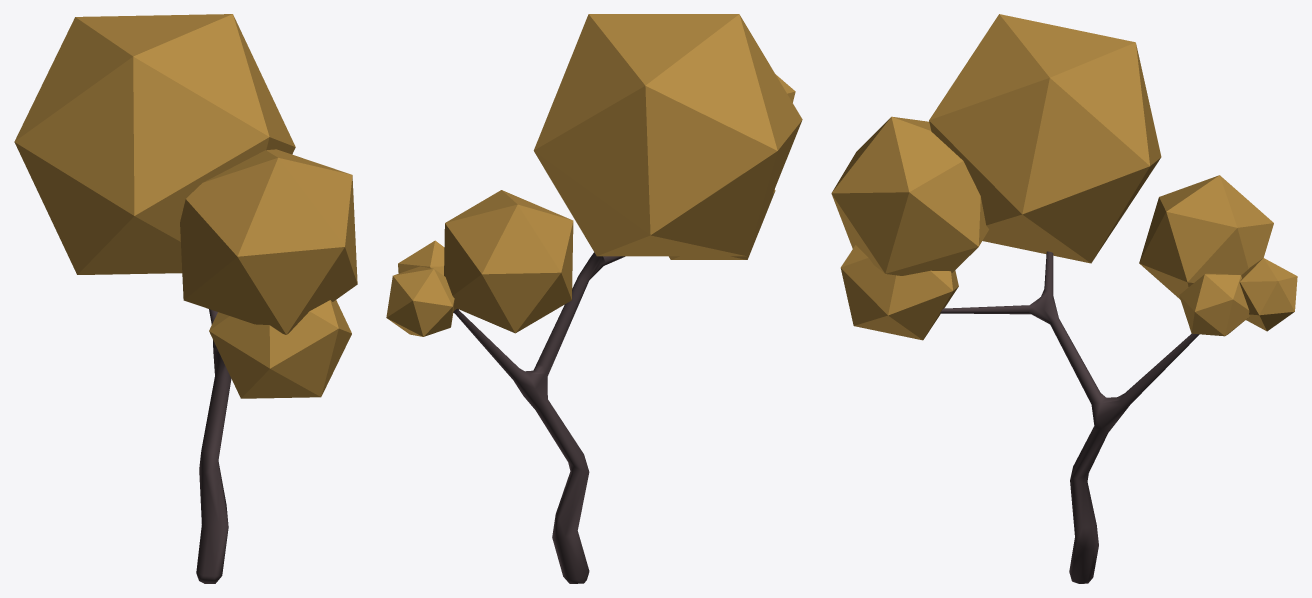
File: LowPolyAutumnTree.fbx
The picture shows the model from 3 angles, left to right: view 1: azimuth 30°, elevation 25°; view 2: azimuth 150°, elevation 25°; view 3: azimuth 270°, elevation 25°; orthographic projection. The views are drawn at different scales.
Visible parts, largest first — view 1: LP_Autumn_Tree; view 2: LP_Autumn_Tree; view 3: LP_Autumn_Tree.
Part boxes in pixels (x1,y1,x2,y2): LP_Autumn_Tree: (14,14,357,583); LP_Autumn_Tree: (386,14,802,583); LP_Autumn_Tree: (831,14,1297,583).
Size of the model in its own units: 133 by 246 by 201.
